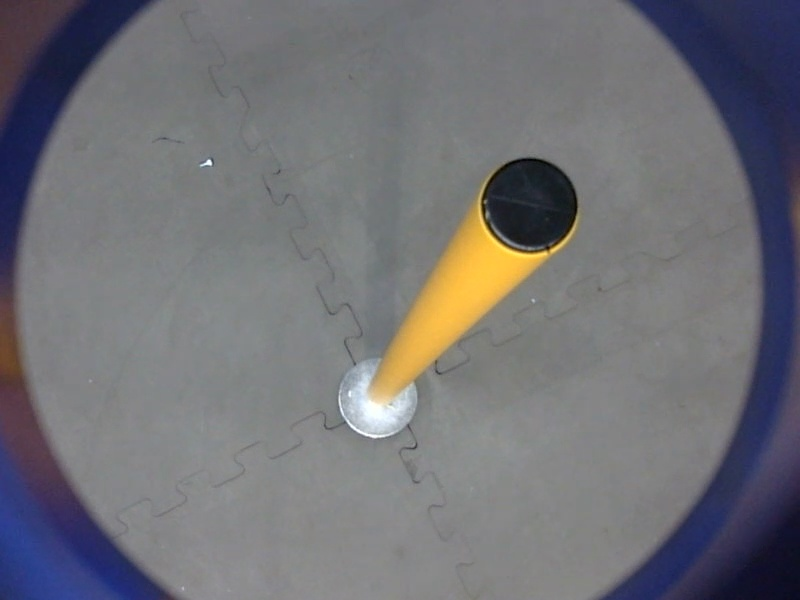tip: (475, 148, 586, 261)
